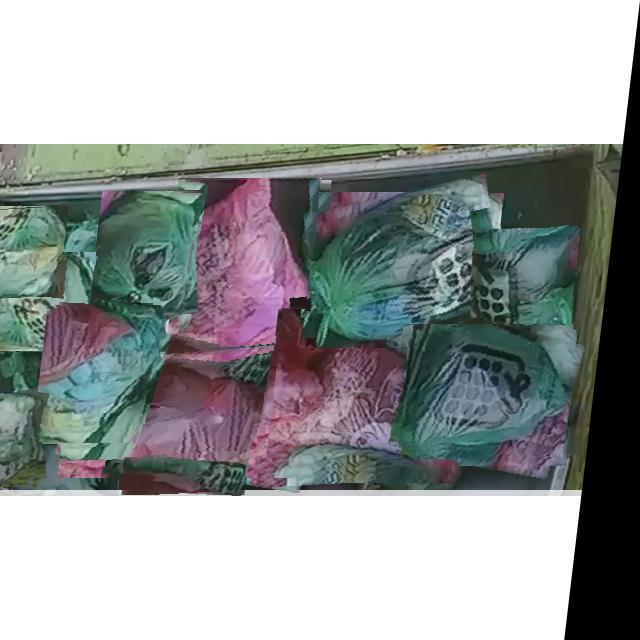general_trashbag: (316, 179, 495, 348), (402, 325, 577, 451), (44, 308, 169, 443), (99, 191, 201, 315), (480, 227, 582, 349), (2, 252, 97, 352), (0, 206, 70, 297), (134, 456, 260, 495), (0, 394, 51, 486)
other_trashbag: (279, 310, 471, 477), (71, 355, 321, 477), (179, 179, 331, 359)
